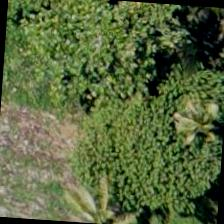Kelapa_Sawit: (158, 80, 223, 175)
